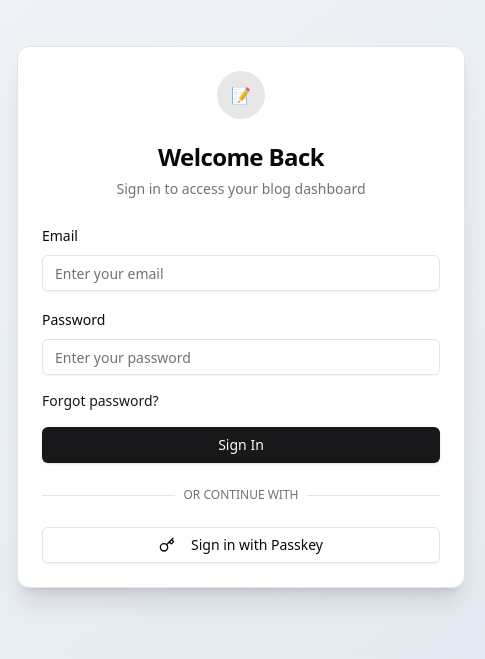
Test: AdminPage › Login form › handles login failure with invalid credentials
Type "wrong@example.com" into the field labelled "Email" at (241, 273), box [42, 255, 440, 291]
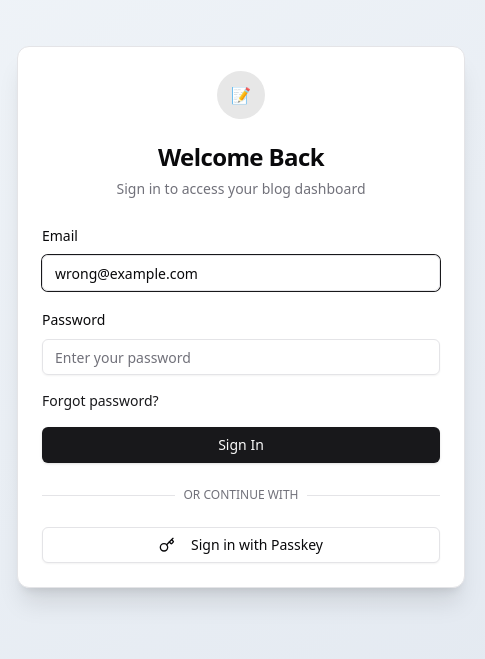
Type "wrongpass" into the password field labelled "Password" at (241, 357), box [42, 339, 440, 375]
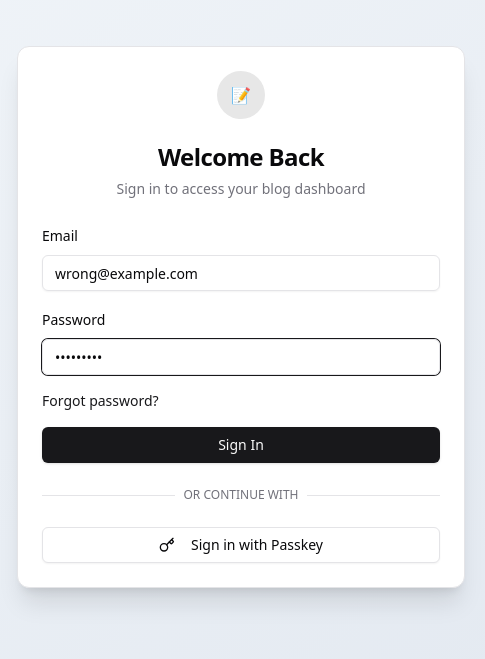
Click the button "Sign In" at (241, 445), box [42, 427, 440, 463]
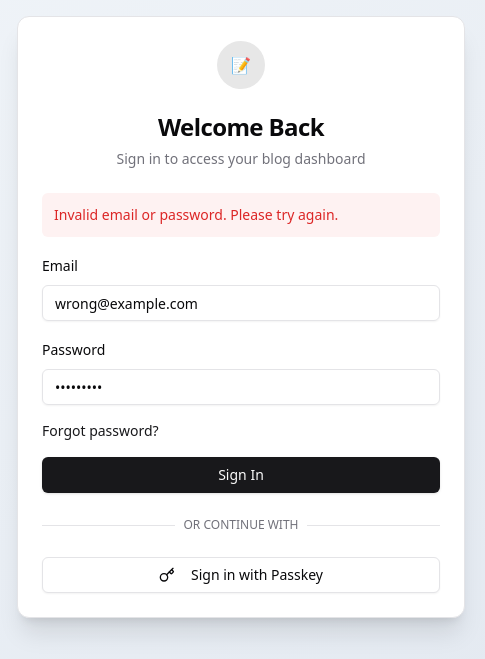
Now the text "Invalid email or password. Please try again." is shown, box [42, 193, 440, 237]
